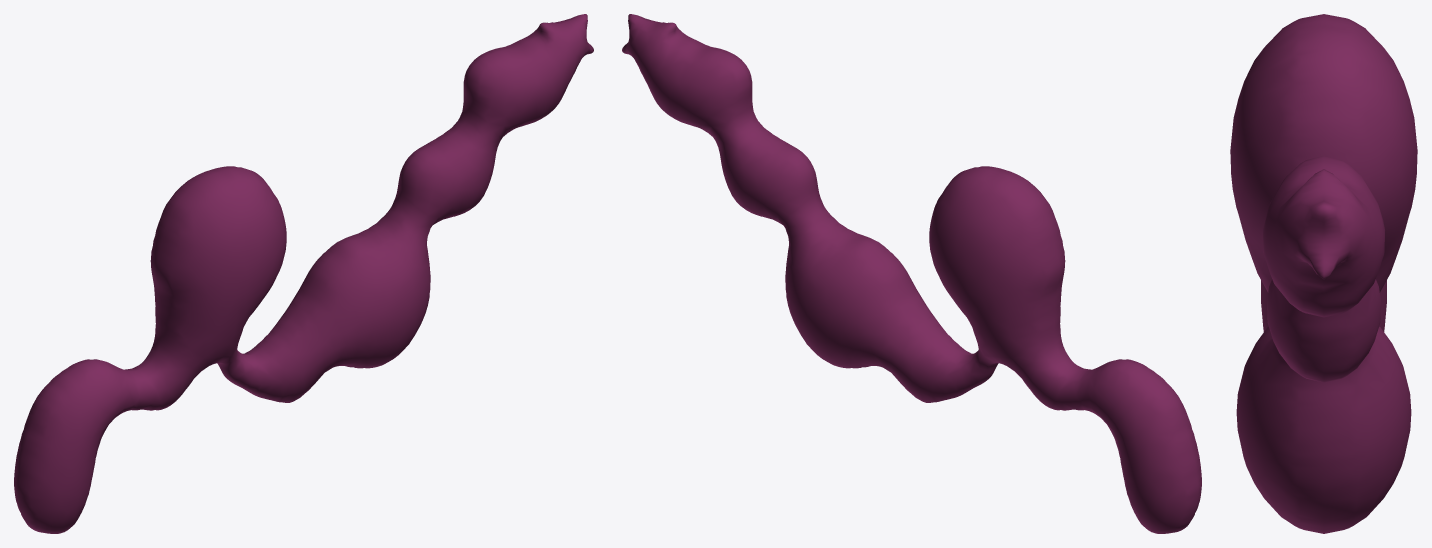
The model's file is mm_project.glb.
3 renders of one model, left to right at view 1: azimuth 30°, elevation 25°; view 2: azimuth 150°, elevation 25°; view 3: azimuth 270°, elevation 25°, orthographic. The views are drawn at different scales.
Parts seen in each view (by area): view 1: 9db2186f-b092-495f-a3b9-ebbe0bdcd65d; view 2: 9db2186f-b092-495f-a3b9-ebbe0bdcd65d; view 3: 9db2186f-b092-495f-a3b9-ebbe0bdcd65d.
Part boxes in pixels (<box>): 9db2186f-b092-495f-a3b9-ebbe0bdcd65d: <box>14,14,593,533</box>; 9db2186f-b092-495f-a3b9-ebbe0bdcd65d: <box>622,14,1201,533</box>; 9db2186f-b092-495f-a3b9-ebbe0bdcd65d: <box>1230,14,1417,533</box>.
Size of the model in its own units: 5.78 by 3.74 by 0.9716.
